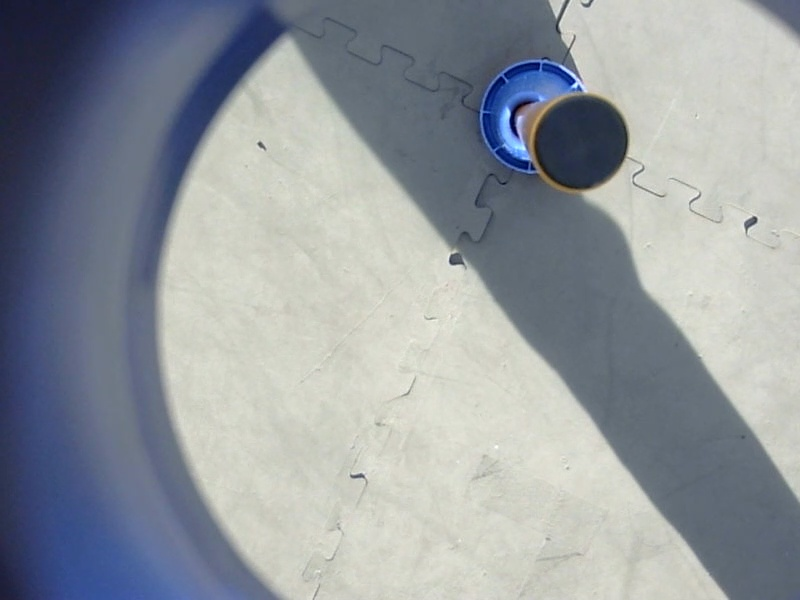tip: (523, 89, 636, 200)
